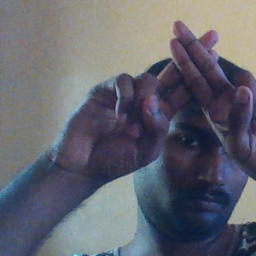F: (130, 16, 252, 153)
